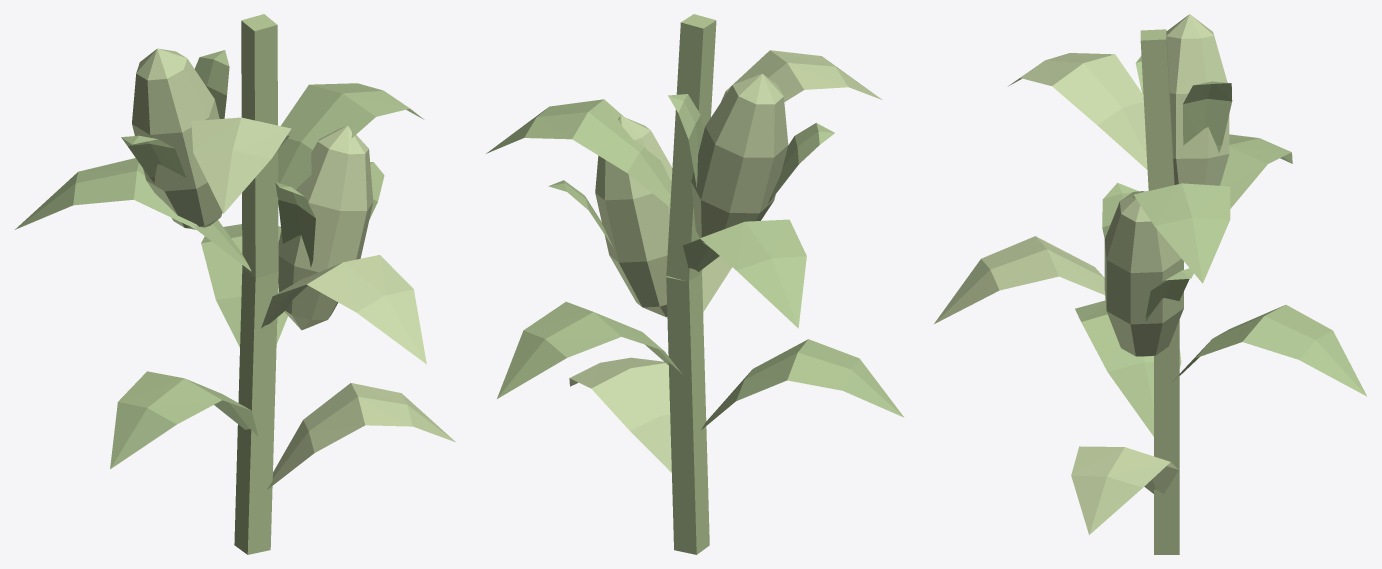
Rendered from crafted-crop-corn-2.glb.
The picture shows the model from 3 angles, left to right: view 1: azimuth 30°, elevation 25°; view 2: azimuth 150°, elevation 25°; view 3: azimuth 270°, elevation 25°; orthographic projection. The views are drawn at different scales.
Parts seen in each view (by area): view 1: corn-ear-0-husk-core, stalk-0, corn-ear-1-husk-core, stalk-1, corn-leaf-3, corn-leaf-5, corn-leaf-1, corn-leaf-0, corn-leaf-6, corn-leaf-4, corn-leaf-2, corn-ear-0-husk-leaf (+2 smaller); view 2: corn-ear-1-husk-core, stalk-0, corn-ear-0-husk-core, corn-leaf-4, stalk-1, corn-leaf-5, corn-leaf-0, corn-leaf-2, corn-leaf-1, corn-leaf-6, corn-ear-1-husk-leaf-1, corn-ear-1-husk-leaf (+2 smaller); view 3: corn-ear-0-husk-core, corn-leaf-6, corn-ear-1-husk-core, corn-leaf-5, corn-leaf-0, corn-leaf-2, corn-leaf-3, stalk-0, stalk-1, corn-leaf-1, corn-ear-1-husk-leaf, corn-leaf-4 (+2 smaller).
Boxes of the visible parts, box(x1,y1,x2,y2) form: corn-ear-0-husk-core: box(278, 125, 373, 330); stalk-0: box(234, 268, 278, 554); corn-ear-1-husk-core: box(132, 48, 222, 229); stalk-1: box(241, 14, 278, 278); corn-leaf-3: box(261, 255, 426, 364); corn-leaf-5: box(278, 83, 424, 205); corn-leaf-1: box(110, 371, 258, 469); corn-leaf-0: box(267, 383, 455, 489); corn-leaf-6: box(191, 117, 291, 213); corn-leaf-4: box(15, 158, 251, 271); corn-leaf-2: box(201, 224, 287, 347); corn-ear-0-husk-leaf: box(275, 182, 315, 267); corn-ear-1-husk-core: box(691, 73, 788, 249); stalk-0: box(666, 273, 709, 554); corn-ear-0-husk-core: box(595, 116, 672, 317); corn-leaf-4: box(683, 219, 806, 328); stalk-1: box(666, 14, 716, 281); corn-leaf-5: box(486, 99, 671, 207); corn-leaf-0: box(569, 357, 671, 472); corn-leaf-2: box(497, 301, 682, 398); corn-leaf-1: box(701, 339, 904, 429); corn-leaf-6: box(721, 50, 881, 101); corn-ear-1-husk-leaf-1: box(768, 123, 834, 203); corn-ear-1-husk-leaf: box(668, 94, 702, 187); corn-ear-0-husk-core: box(1104, 191, 1183, 356); corn-leaf-6: box(1008, 53, 1147, 169); corn-ear-1-husk-core: box(1166, 14, 1229, 185); corn-leaf-5: box(1133, 183, 1230, 283); corn-leaf-0: box(1071, 446, 1178, 534); corn-leaf-2: box(1172, 305, 1366, 396); corn-leaf-3: box(934, 236, 1105, 323); stalk-0: box(1154, 320, 1179, 554); stalk-1: box(1140, 29, 1174, 190); corn-leaf-1: box(1075, 300, 1181, 436); corn-ear-1-husk-leaf: box(1182, 81, 1232, 152); corn-leaf-4: box(1220, 134, 1292, 208).
Size of the model in its own units: 0.5638 by 0.7719 by 0.5891.
